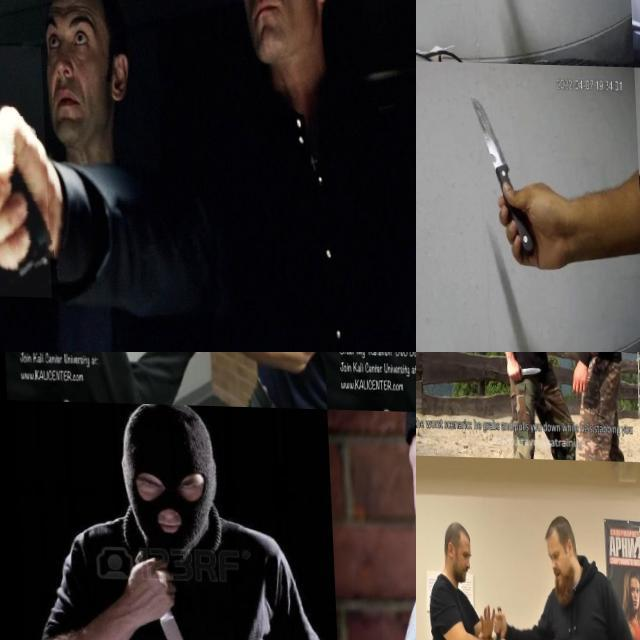-: (460, 82, 530, 255), (125, 561, 210, 640), (463, 0, 523, 97), (380, 489, 416, 640), (160, 352, 208, 408), (502, 358, 542, 384), (485, 599, 499, 640), (416, 352, 435, 367)
gun-knife-thesis - v11 Yolov5 augmented: (0, 41, 102, 296)
